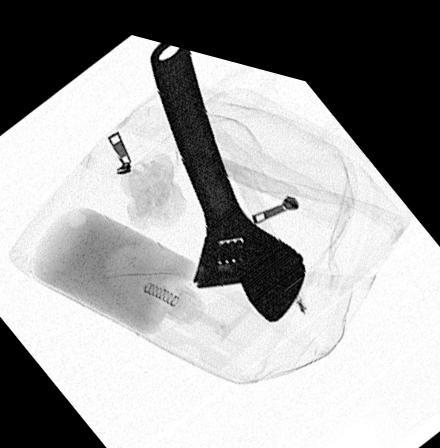Wrench: (146, 33, 307, 309)
